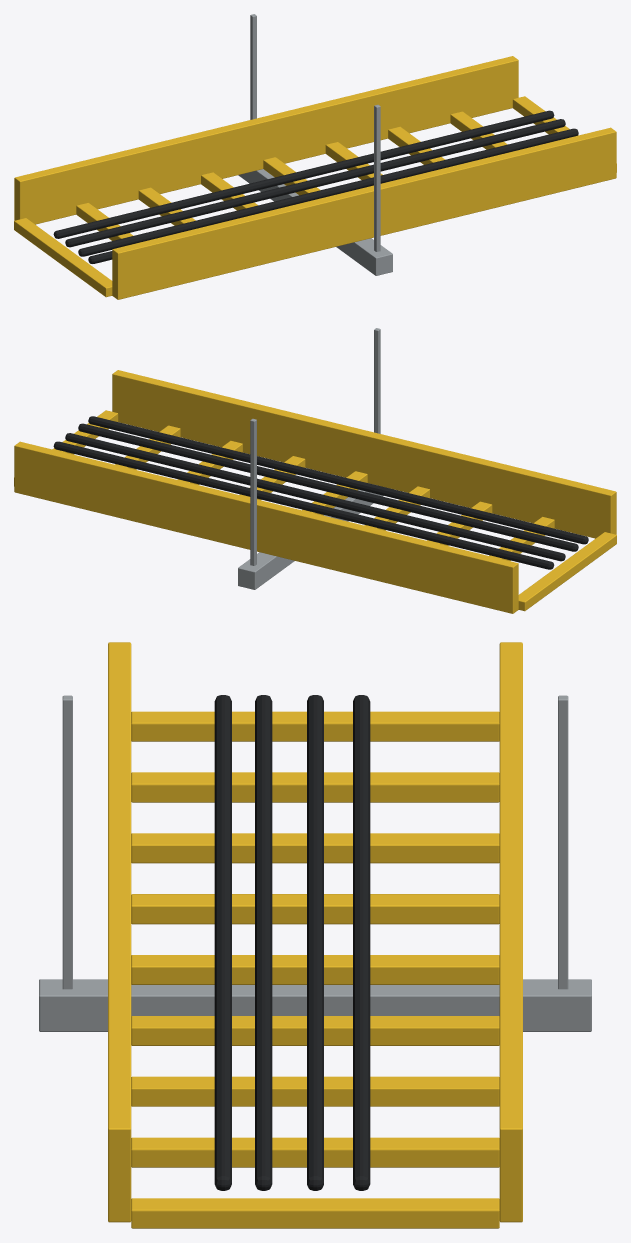
The model's file is tray.glb.
3 renders of one model, top to bottom at view 1: azimuth 30°, elevation 25°; view 2: azimuth 150°, elevation 25°; view 3: azimuth 270°, elevation 25°, orthographic. The views are drawn at different scales.
Parts seen in each view (by area): view 1: YellowTraySupportsCables; view 2: YellowTraySupportsCables; view 3: YellowTraySupportsCables.
Boxes of the visible parts, bbox=[...] form: YellowTraySupportsCables: bbox=[14, 14, 616, 299]; YellowTraySupportsCables: bbox=[14, 328, 616, 613]; YellowTraySupportsCables: bbox=[39, 642, 591, 1228].
Bounding box in the file's own units: 1.02 × 0.3125 × 0.48.
